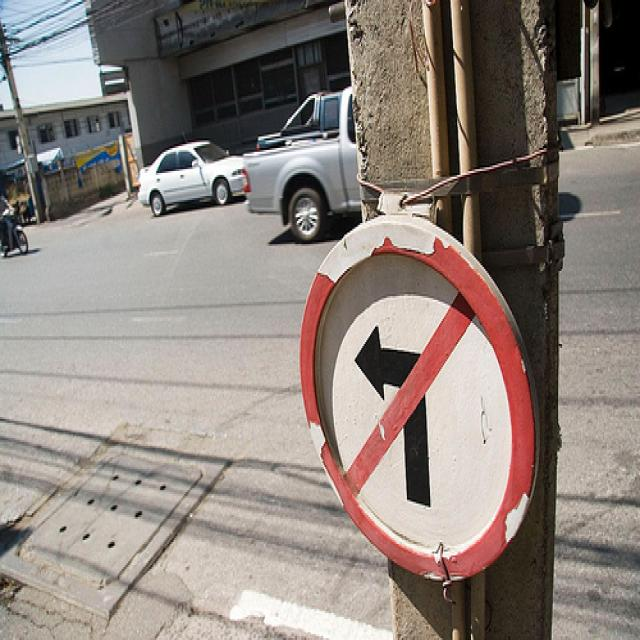motor: (0, 208, 29, 257)
